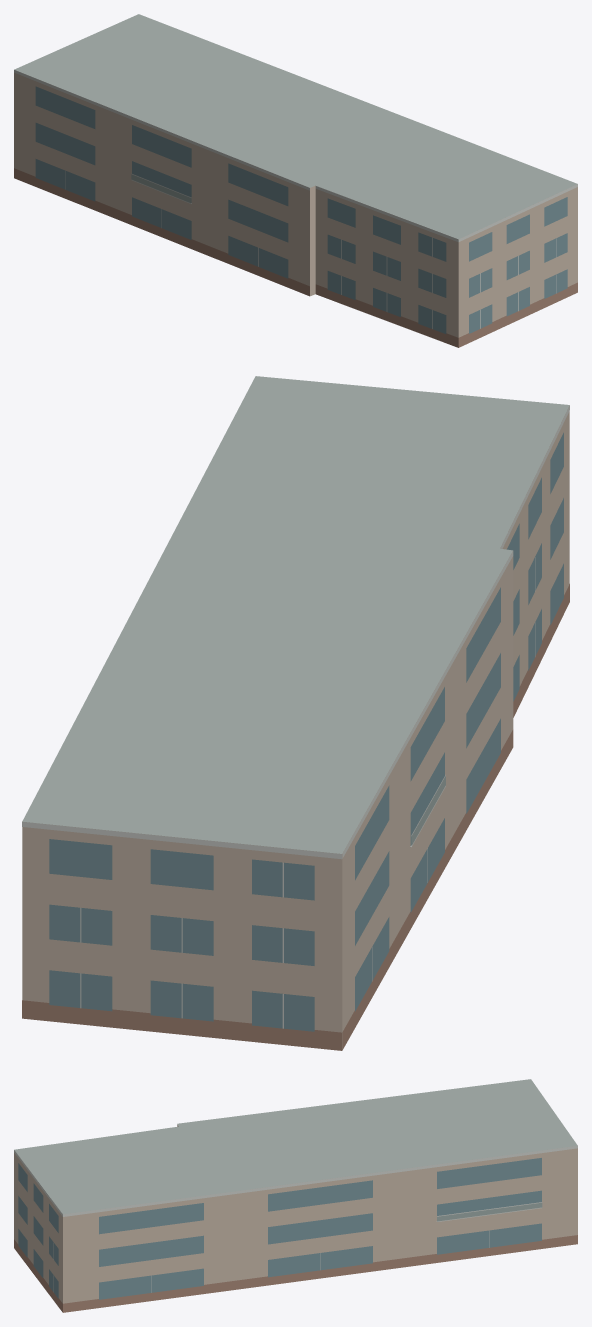
The model's file is survey-upis-32837007.glb.
3 renders of one model, top to bottom at view 1: azimuth 30°, elevation 25°; view 2: azimuth 150°, elevation 25°; view 3: azimuth 270°, elevation 25°, orthographic. The views are drawn at different scales.
Visible parts, largest first — view 1: survey-upis-32837007.tmp; view 2: survey-upis-32837007.tmp; view 3: survey-upis-32837007.tmp.
Boxes of the visible parts, x1=… form: survey-upis-32837007.tmp: x1=14, y1=14, x2=577, y2=347; survey-upis-32837007.tmp: x1=22, y1=376, x2=569, y2=1050; survey-upis-32837007.tmp: x1=14, y1=1079, x2=577, y2=1312.
Size of the model in its own units: 26.99 by 9.15 by 47.51.
